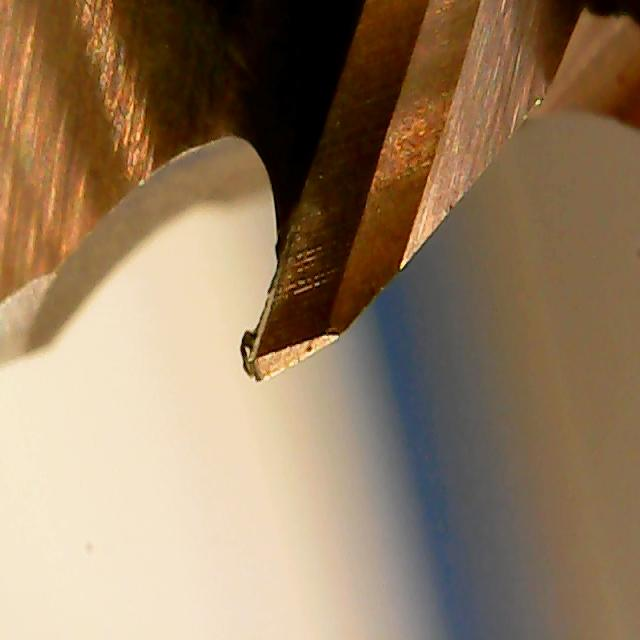Tool-wear-class-1: (230, 121, 411, 396)
